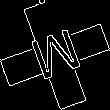M_S: (25, 23, 85, 87)
